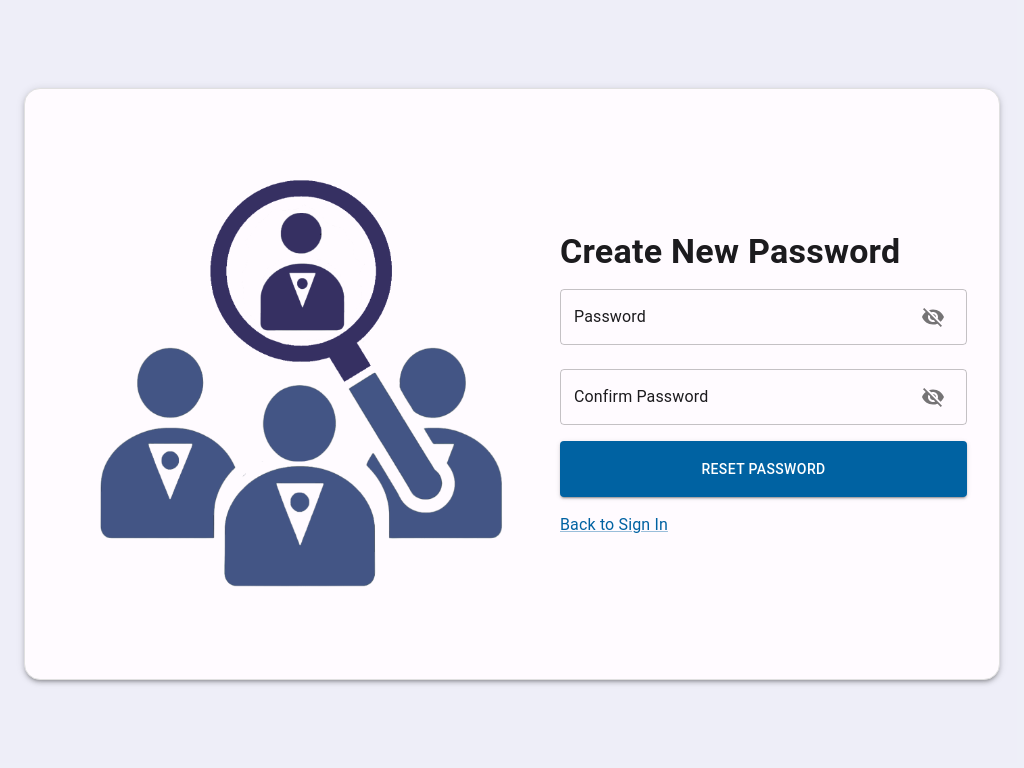
Test case: Reset Password Form Tests › should show error message when passwords do not match
Type "password123" into the password field named "password" at [737, 317], box [560,289,913,345]
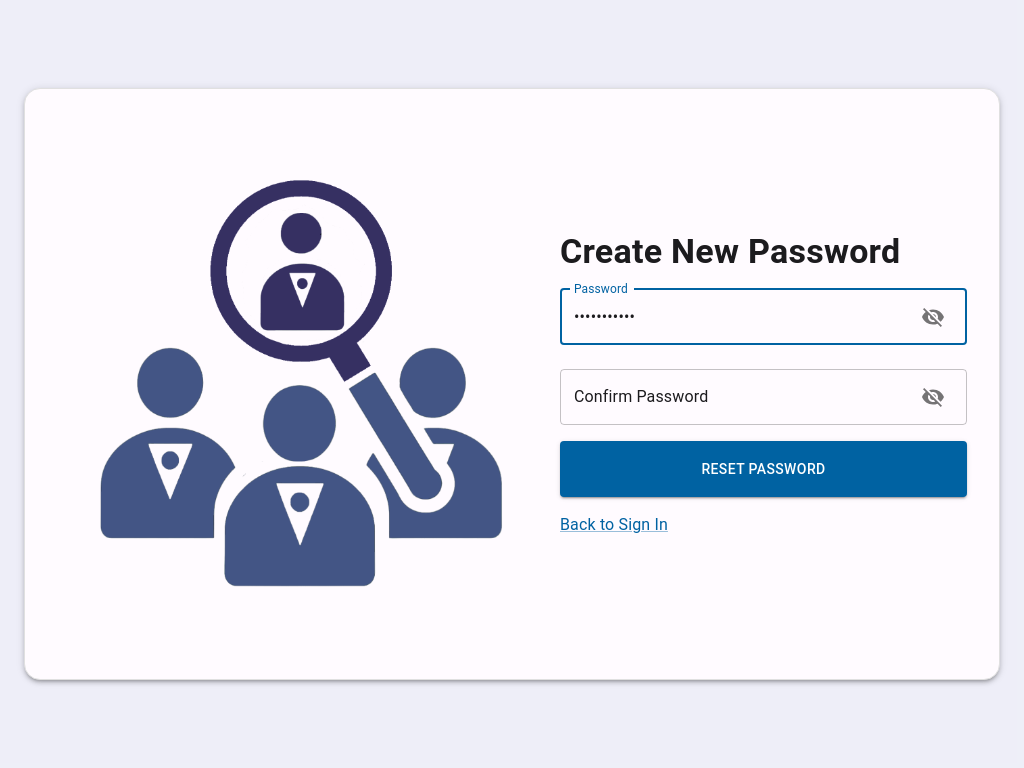
Type "differentpassword" into the password field named "confirmPassword" at [737, 397], box [560,369,913,425]
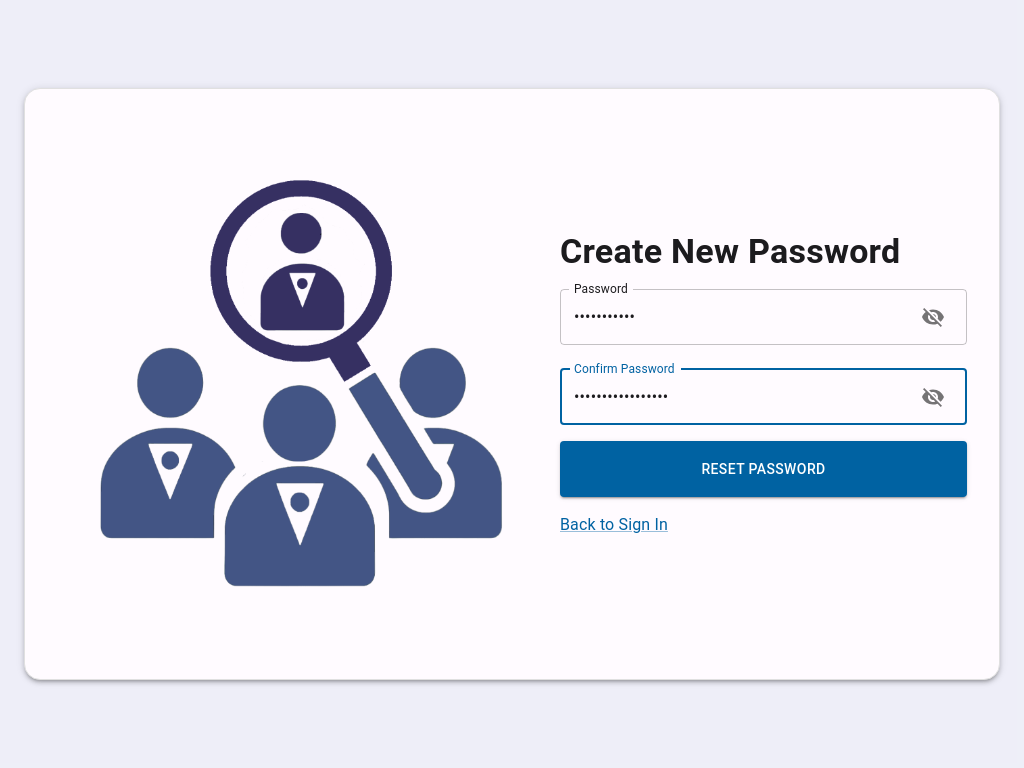
Click the button "Reset Password" at [764, 470], box [560,441,967,498]
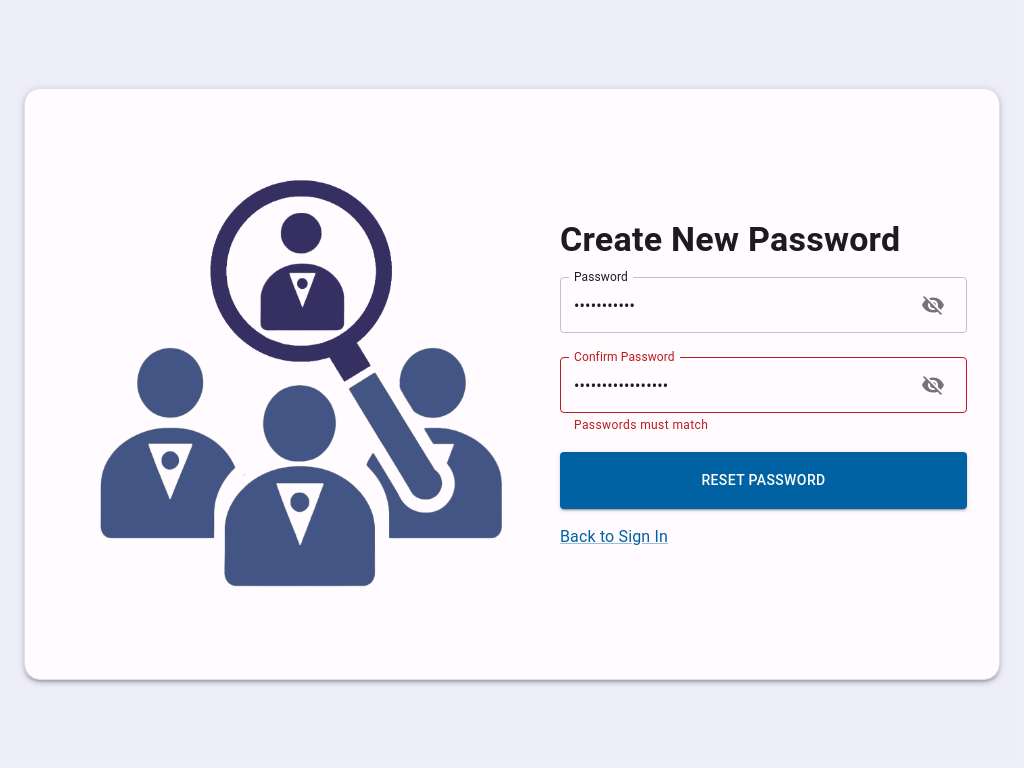
Now the text "Passwords must match" is shown, box [574,418,708,432]
